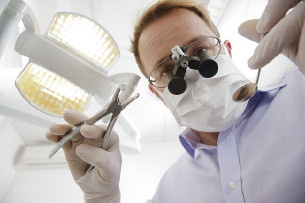Mask: (151, 36, 244, 129)
